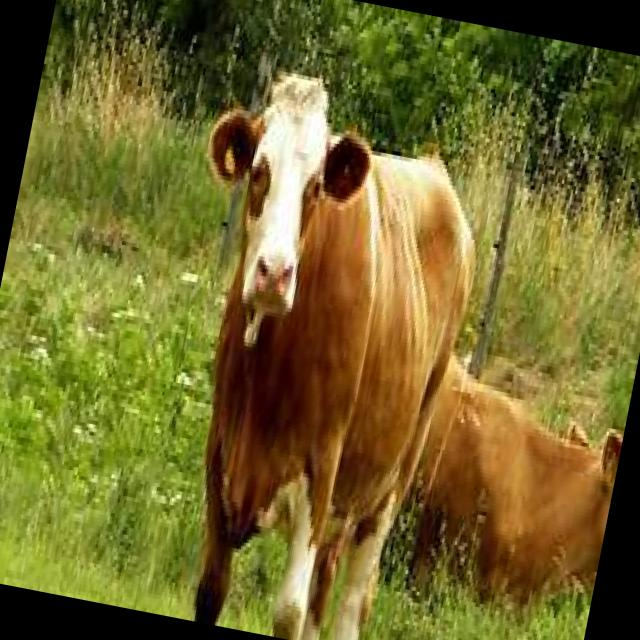cow: (131, 51, 518, 640)
